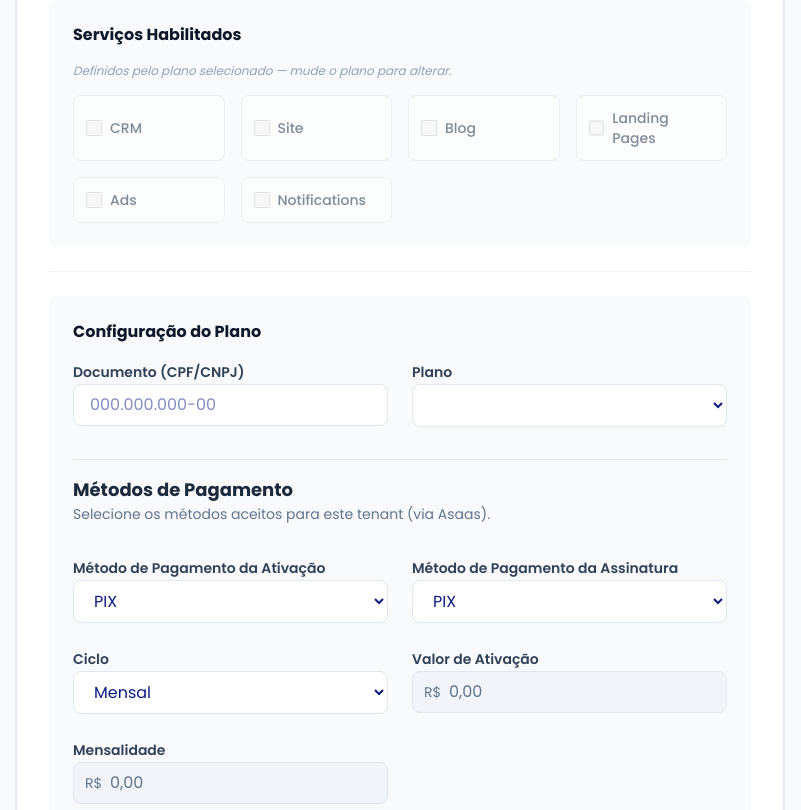
Test: NewTenantPage - Formulário Adaptativo por Plano (T12) › Plano Livre oculta campos de pagamento
The width and height of the screenshot is (801, 810).
(page scrolled)
Step 1. Select "Livre" in the dropdown labelled "Plano" → [570, 406], box [412,384,727,427]
(page scrolled)
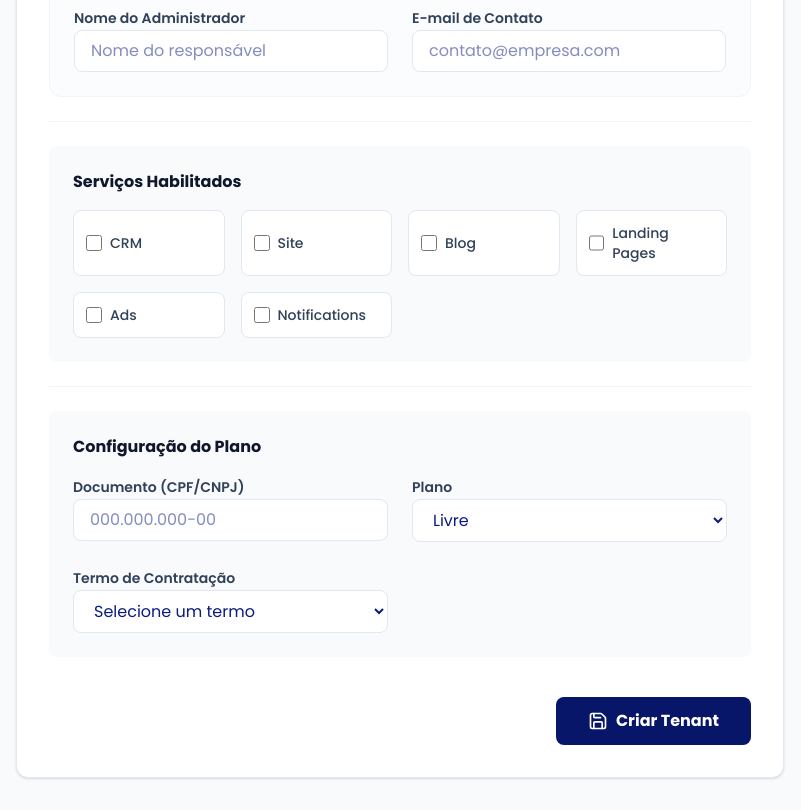
Expected: the label "Valor de Ativação" is gone
